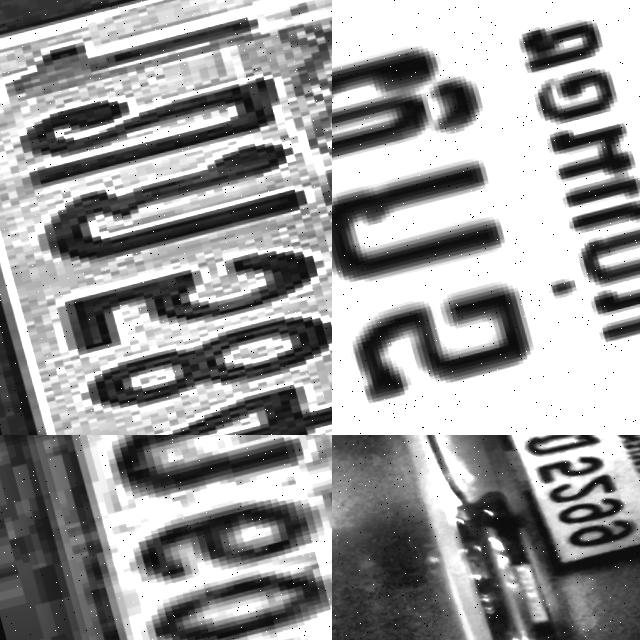license-plate: (0, 0, 332, 435), (332, 0, 640, 435), (0, 435, 332, 640), (504, 435, 640, 571)
